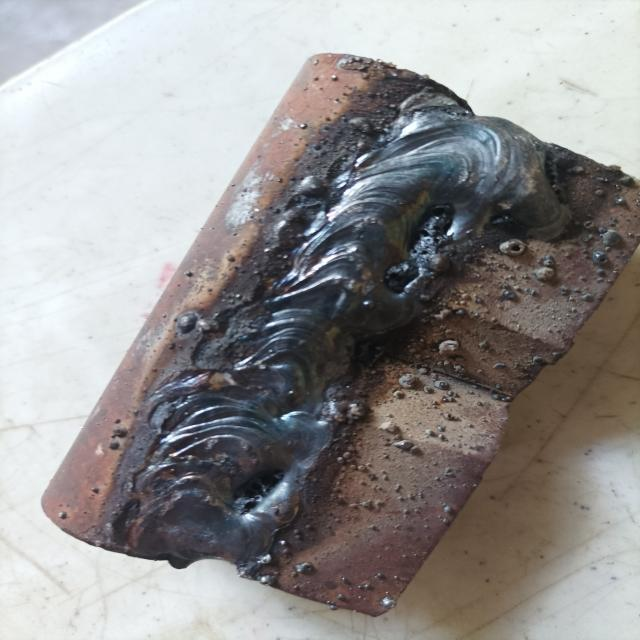Porosity: (382, 202, 456, 292), (226, 465, 294, 518)
